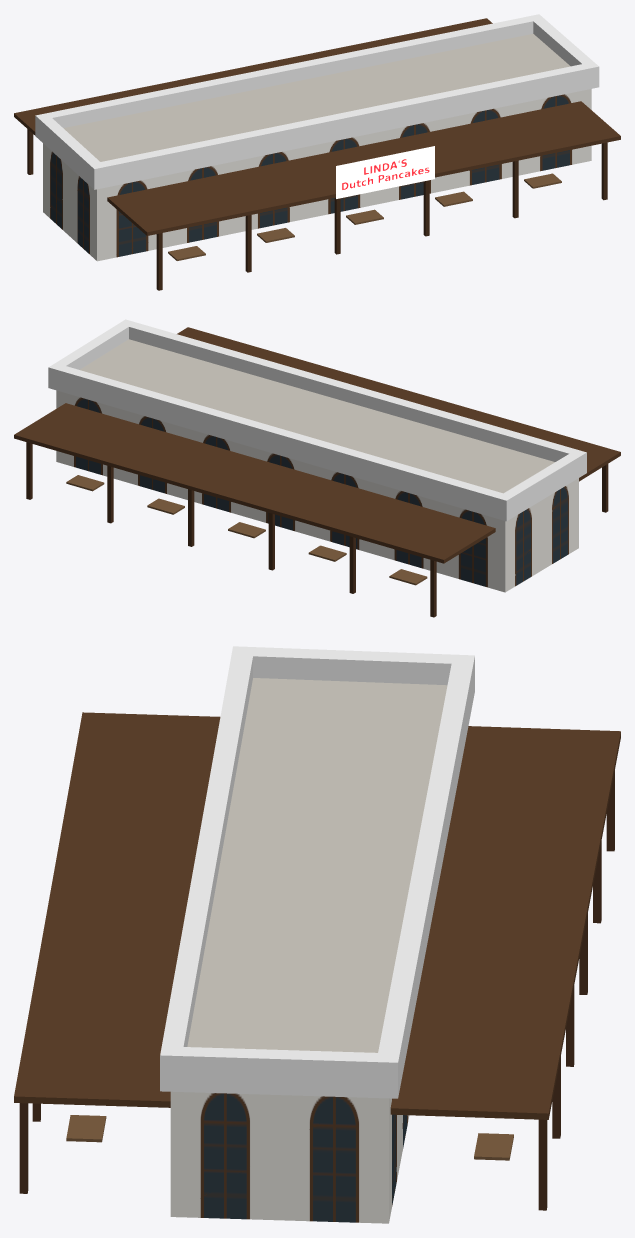
File: lindas.glb
3 views of the same model, one above another, from view 1: azimuth 30°, elevation 25°; view 2: azimuth 150°, elevation 25°; view 3: azimuth 270°, elevation 25° (orthographic). The views are drawn at different scales.
Parts seen in each view (by area): view 1: lindas_lod0; view 2: lindas_lod0; view 3: lindas_lod0.
Part boxes in pixels (bbox=[...]): lindas_lod0: bbox=[14, 14, 620, 290]; lindas_lod0: bbox=[14, 319, 620, 617]; lindas_lod0: bbox=[14, 646, 620, 1223].
Size of what is drawn, in the model's own units: 24.84 by 4.6 by 15.3.
Materials: 7 (2 with a texture image).
